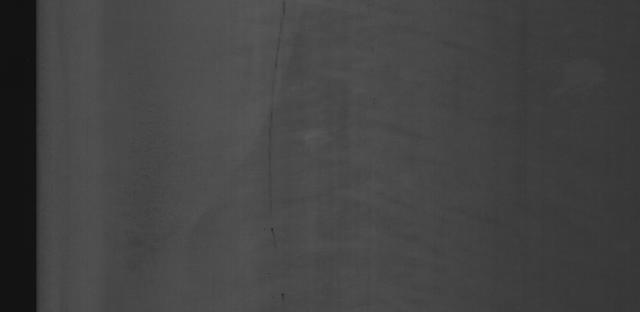inclusion: (260, 4, 298, 307)
